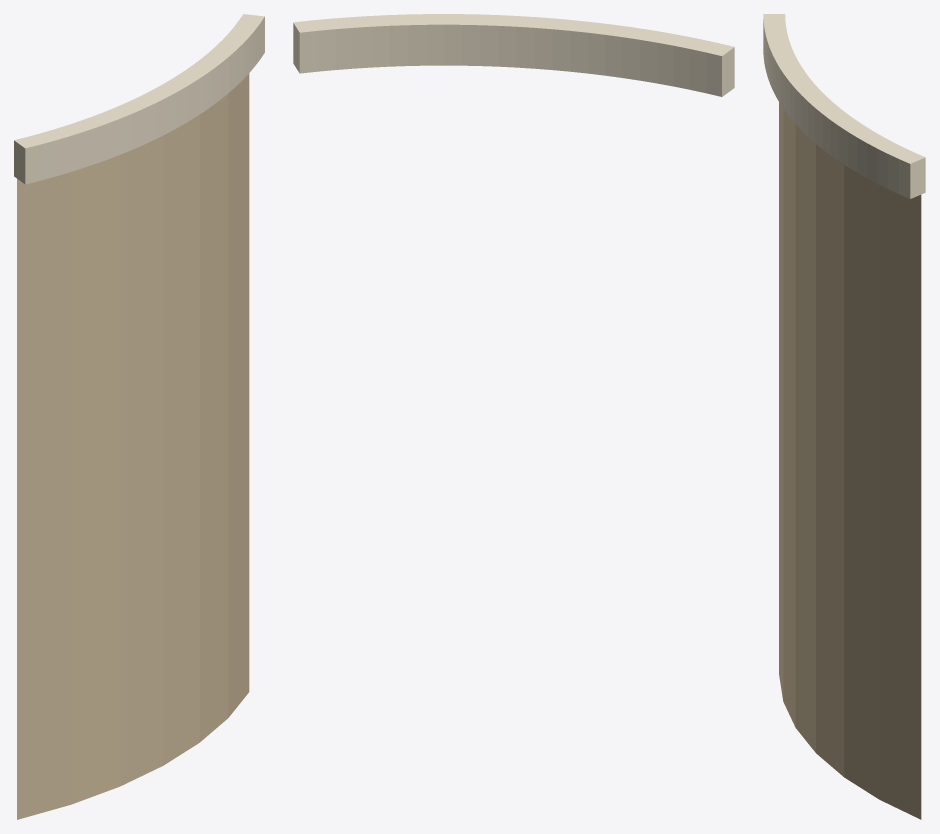
Rendered from ArcWall_R2_A45.glb.
The picture shows the model from 3 angles, left to right: view 1: azimuth 30°, elevation 25°; view 2: azimuth 150°, elevation 25°; view 3: azimuth 270°, elevation 25°; orthographic projection. The views are drawn at different scales.
Parts seen in each view (by area): view 1: PBK_Indochine_ArcWall_R2_A45_Exterior_Surface.001, PBK_floor_band.048; view 2: PBK_floor_band.048; view 3: PBK_Indochine_ArcWall_R2_A45_Exterior_Surface.001, PBK_floor_band.048.
Part boxes in pixels (left/top/right/bottom): PBK_Indochine_ArcWall_R2_A45_Exterior_Surface.001: left=17, top=73, right=249, bottom=819; PBK_floor_band.048: left=14, top=14, right=264, bottom=184; PBK_floor_band.048: left=293, top=14, right=734, bottom=96; PBK_Indochine_ArcWall_R2_A45_Exterior_Surface.001: left=779, top=102, right=921, bottom=819; PBK_floor_band.048: left=763, top=14, right=925, bottom=198.
Bounding box in the file's own units: 1.46 × 3 × 0.6685.
